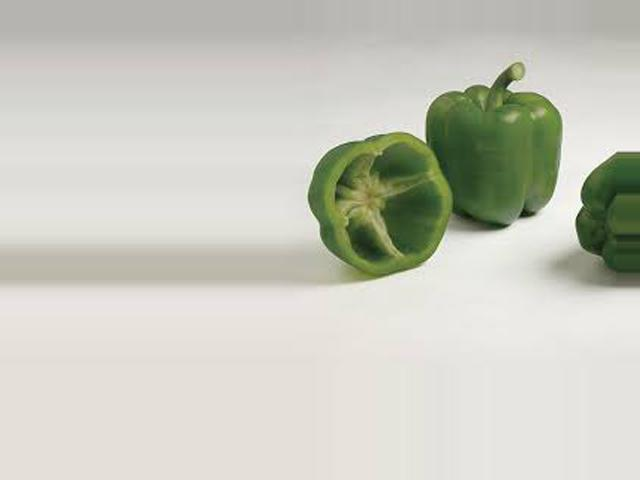bell_pepper: (300, 116, 459, 284)
